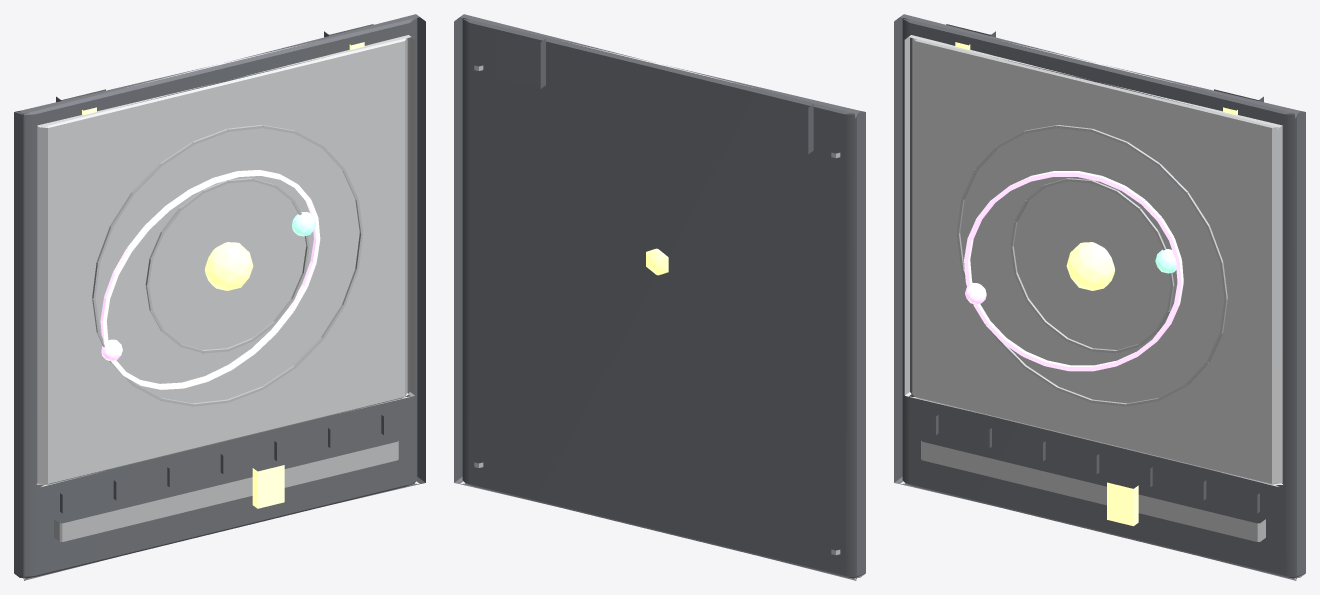
File: iter_05.glb
3 views of the same model, side by side, from view 1: azimuth 30°, elevation 25°; view 2: azimuth 150°, elevation 25°; view 3: azimuth 330°, elevation 25° (orthographic).
Visible parts, largest first — view 1: Face_Panel, Back_Plate, Slider_Track, Cycler_Route, Mars_Orbit, Earth_Orbit, Sun, Slider_Marker, Leg_Ticks; view 2: Back_Plate, Rail_Hooks; view 3: Face_Panel, Back_Plate, Slider_Track, Cycler_Route, Mars_Orbit, Earth_Orbit, Sun, Slider_Marker, Leg_Ticks.
Boxes of the visible parts, x1,y1,x2,y2 form: Face_Panel: (36,35,415,486); Back_Plate: (14,14,425,580); Slider_Track: (54,440,398,541); Cycler_Route: (100,170,320,389); Mars_Orbit: (92,125,363,406); Earth_Orbit: (145,178,309,353); Sun: (205,242,253,290); Slider_Marker: (252,465,284,508); Leg_Ticks: (60,415,387,513); Back_Plate: (454,14,865,580); Rail_Hooks: (496,31,813,154); Face_Panel: (904,35,1282,486); Back_Plate: (894,14,1305,580); Slider_Track: (921,440,1265,541); Cycler_Route: (964,171,1183,371); Mars_Orbit: (956,125,1227,406); Earth_Orbit: (1010,178,1174,353); Sun: (1066,242,1114,290); Slider_Marker: (1107,482,1138,526); Leg_Ticks: (932,415,1259,513).
Bounding box in the file's own units: 0.9 × 1 × 0.11.
